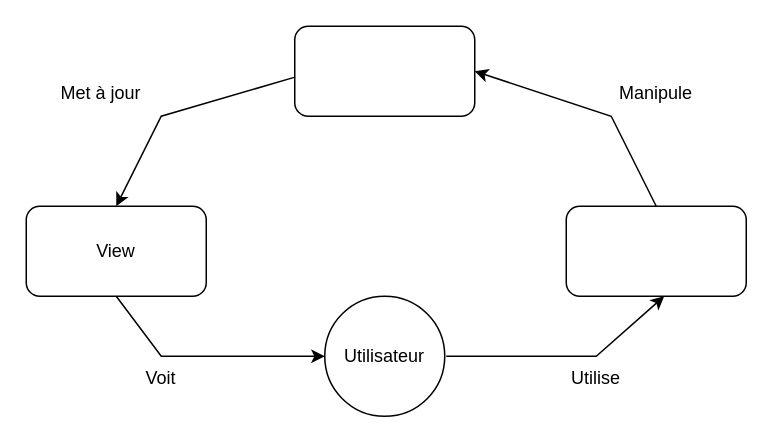
This 773x443 diagram has some shape labels left out. The centre of each missing label's shape, as x and y in pixels:
Controller: [655,250]
Model: [384,70]
